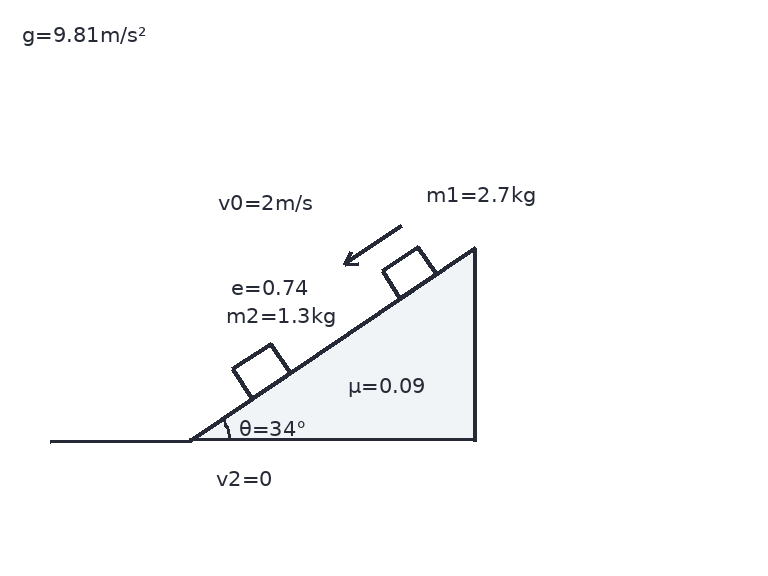block: (230, 342, 292, 400), (379, 245, 438, 300)
ramp: (187, 246, 476, 442)
